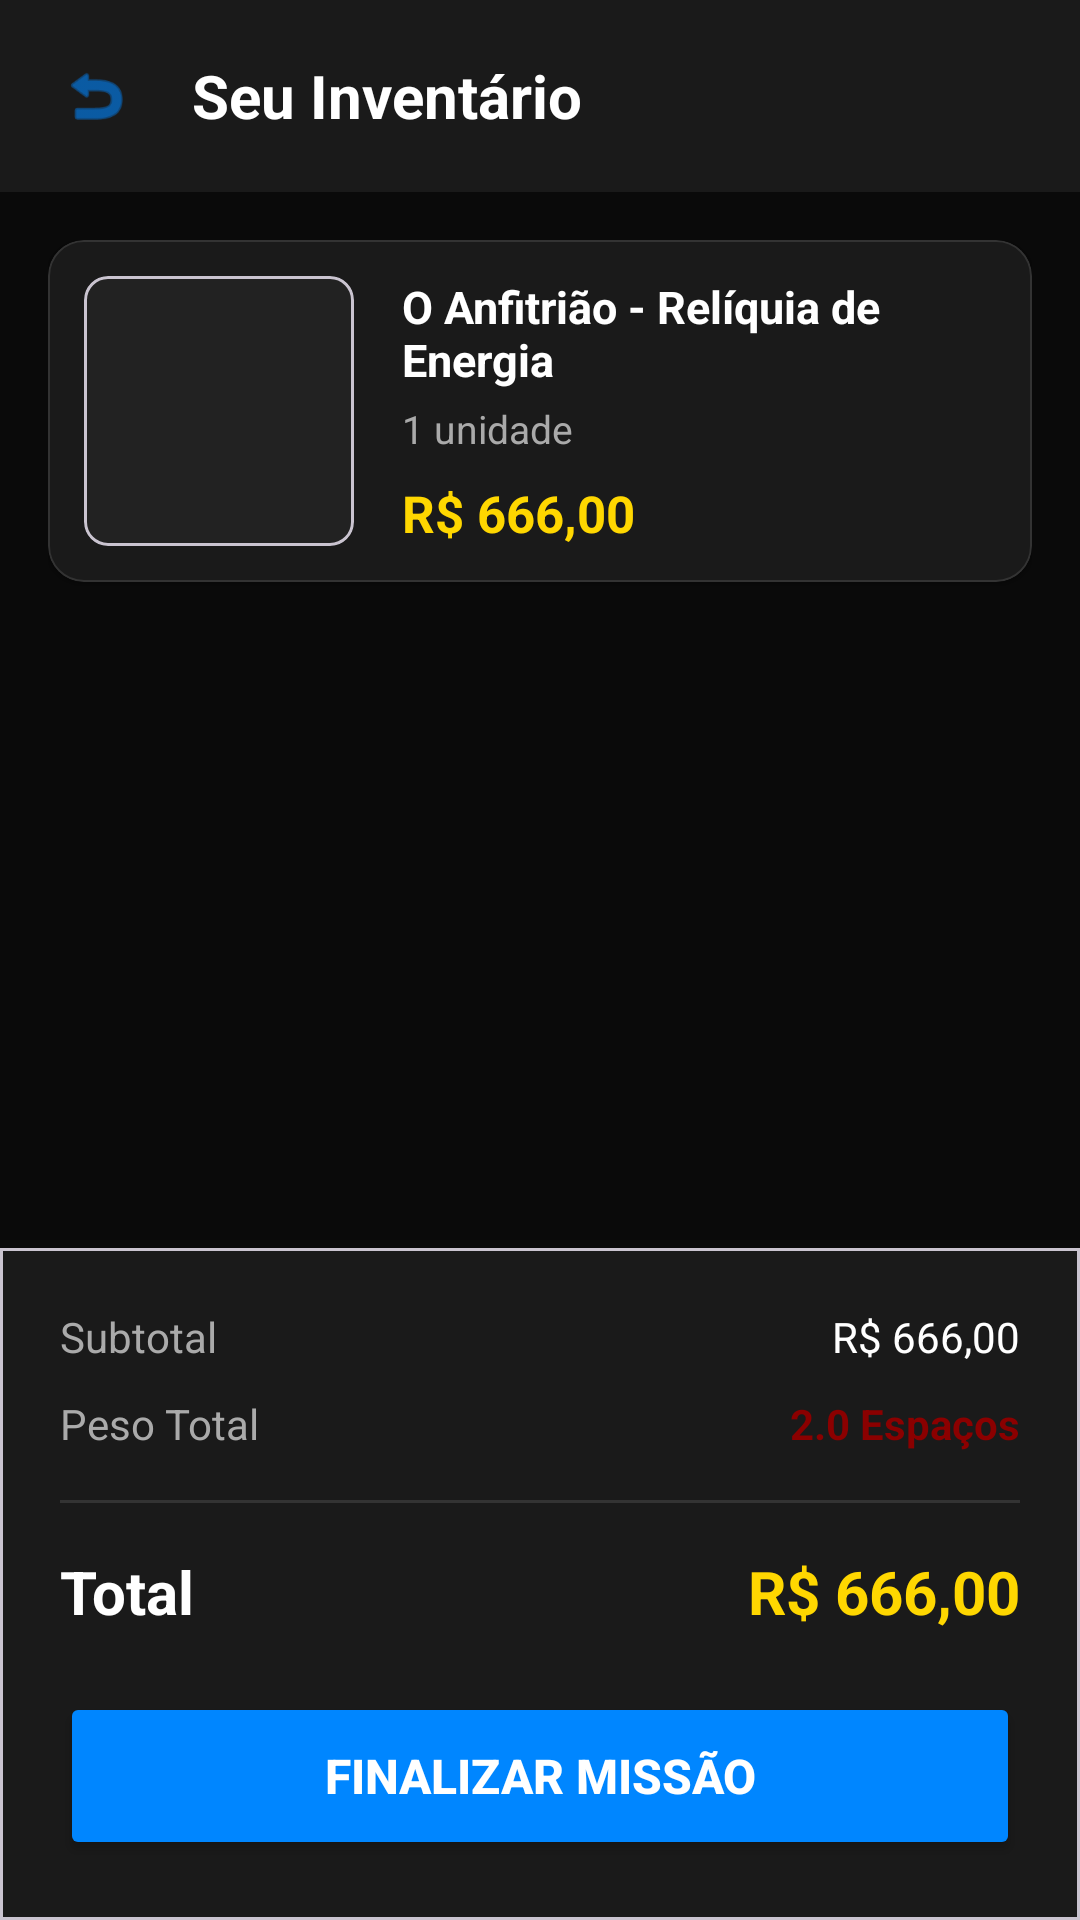

Icons on this 1080*1920 Android screen, each with the point to tap as (x,y):
Voltar: (97,96)
